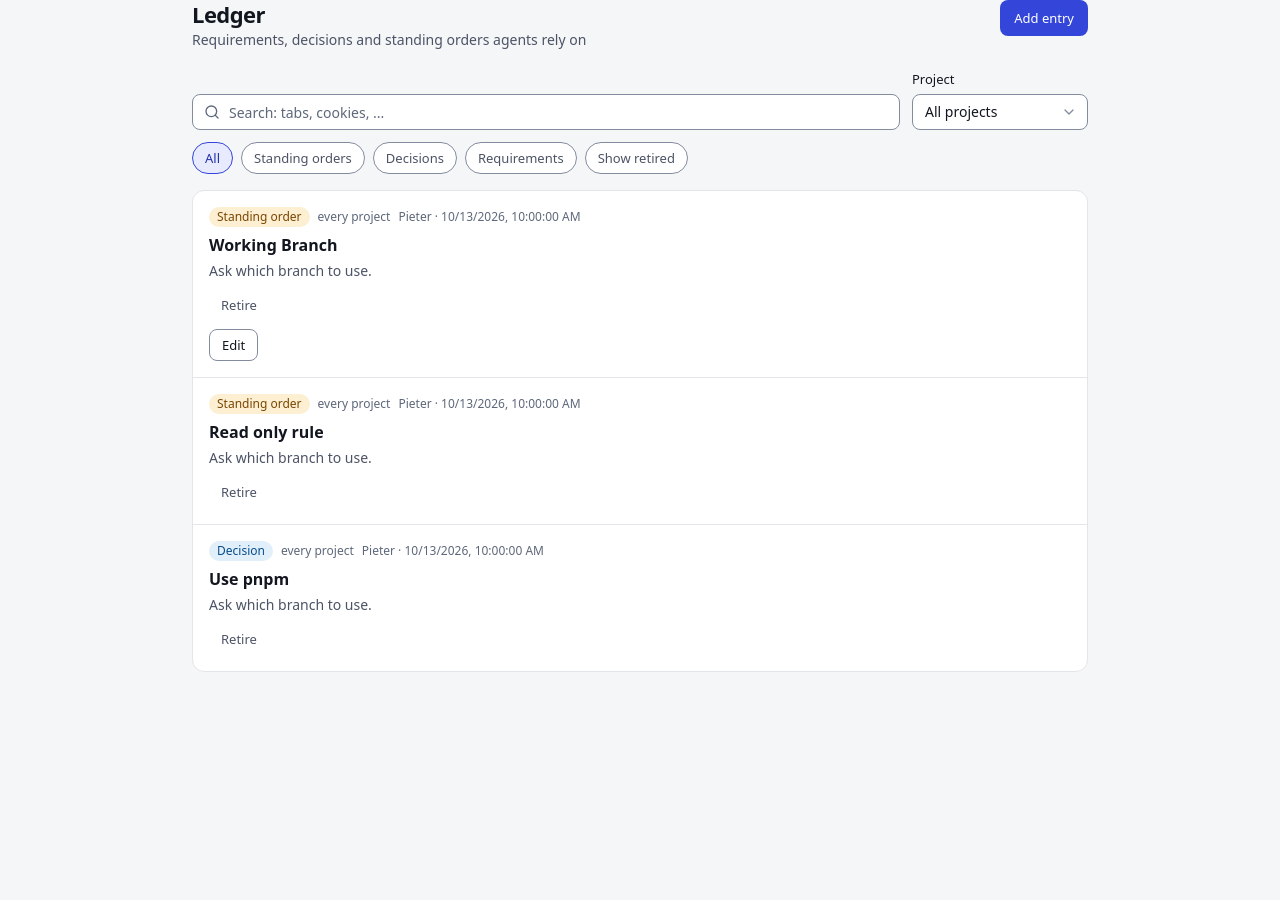
Test: editing a standing order on the Ledger page › asks for text
Click the button with aria-label "Edit Working Branch".
click(234, 345)  # box [209,329,258,361]
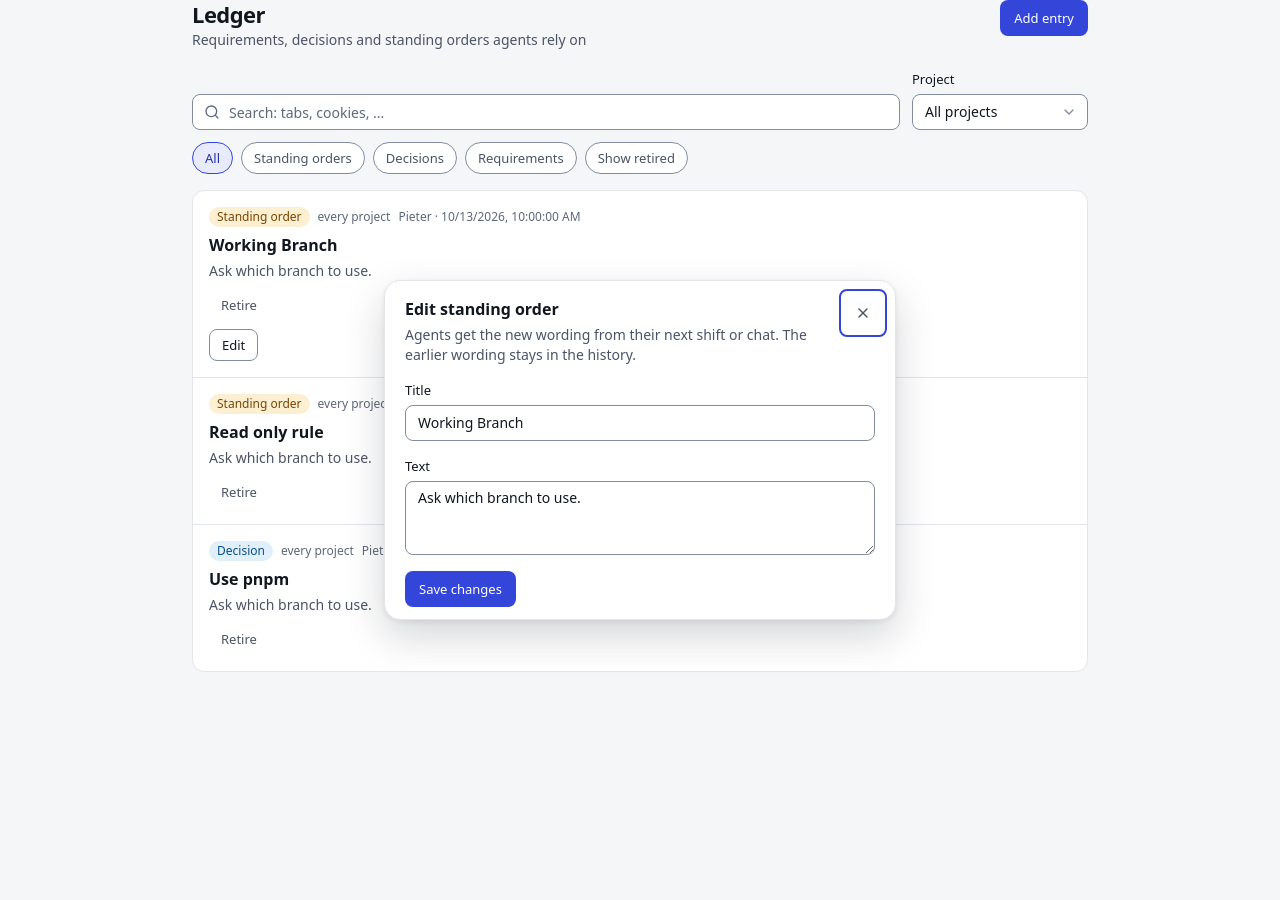
Clear the text box labelled "Text" at (640, 518), box [405,481,875,555]
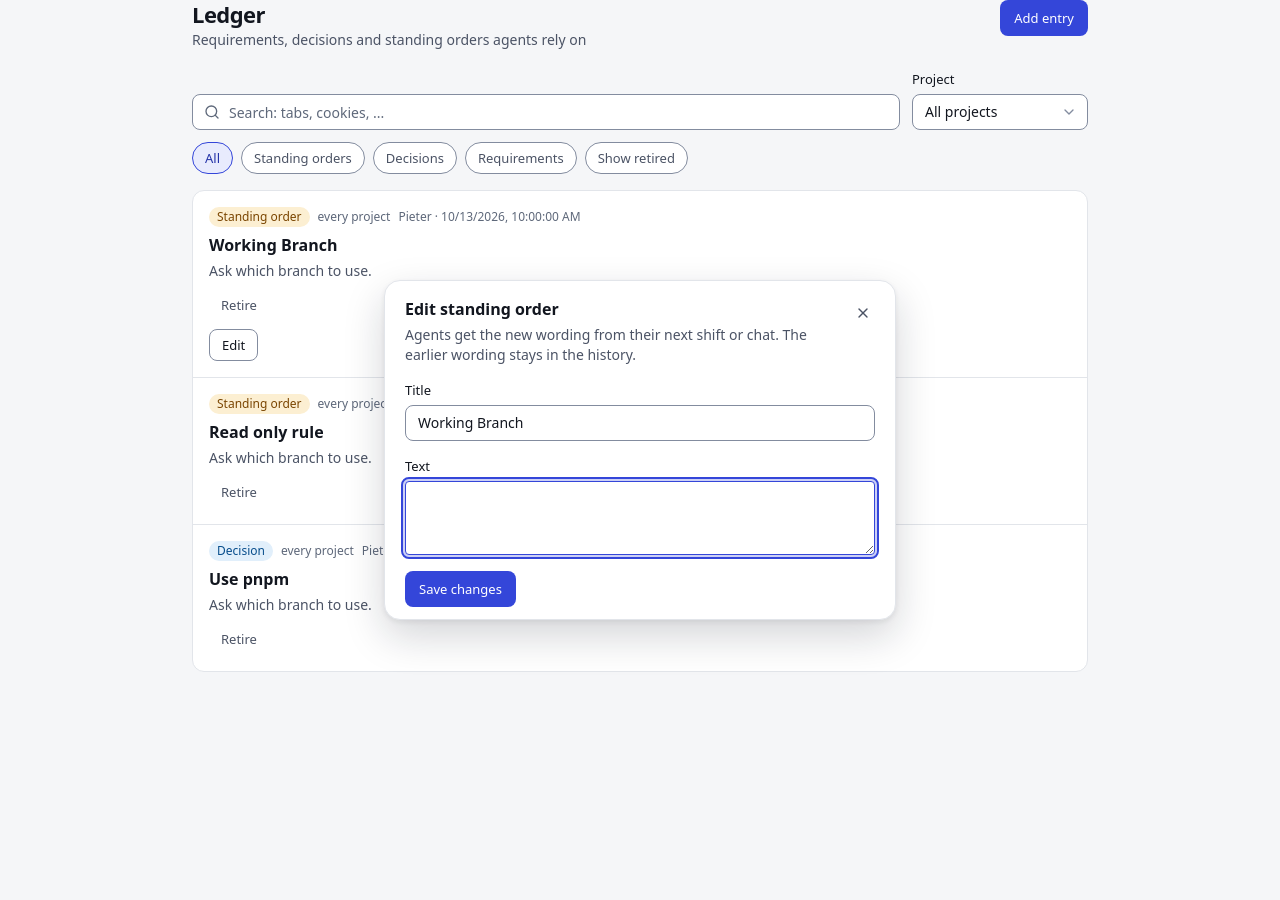
Click the button "Save changes".
click(460, 589)  # box [405,571,516,607]
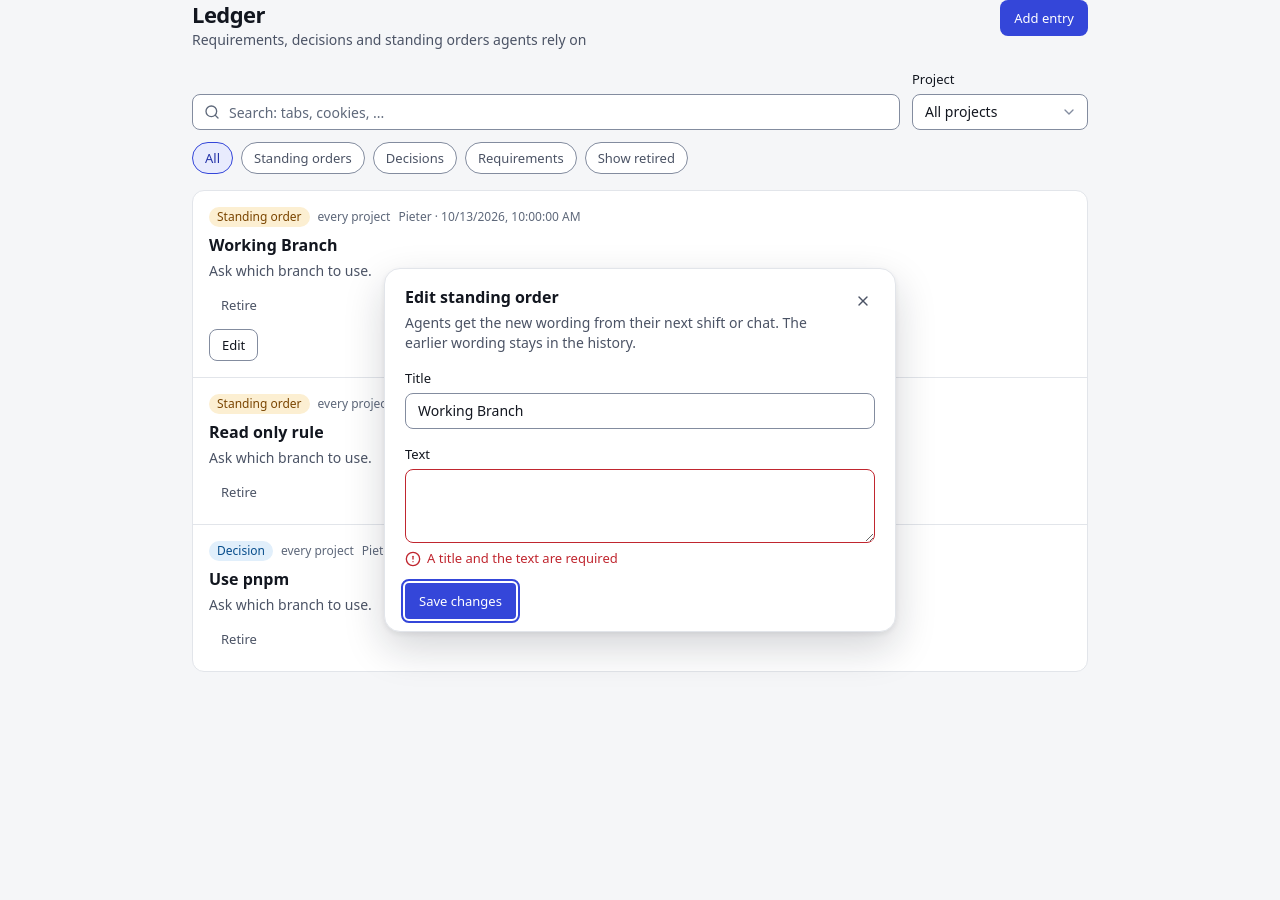
Check: the text "A title and the text are required" is shown, box [405,549,618,567]
